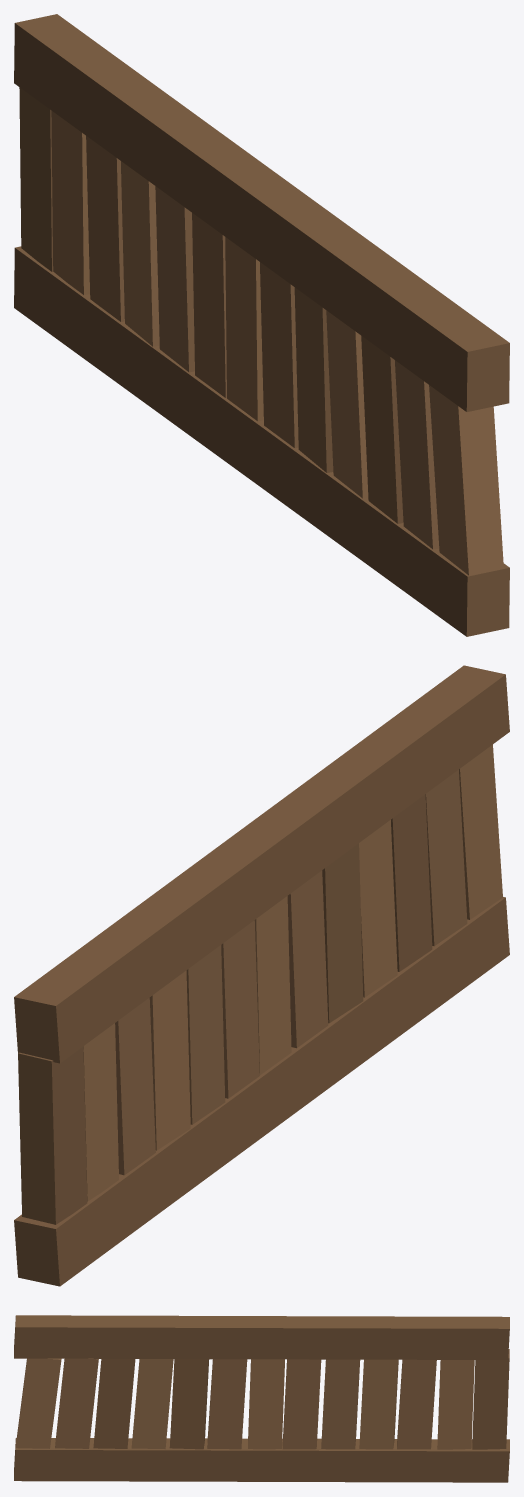
File: Town_Bench_6.fbx
3 renders of one model, top to bottom at view 1: azimuth 30°, elevation 25°; view 2: azimuth 150°, elevation 25°; view 3: azimuth 270°, elevation 25°, orthographic. The views are drawn at different scales.
Parts seen in each view (by area): view 1: Town_Bench_6; view 2: Town_Bench_6; view 3: Town_Bench_6.
Boxes of the visible parts, x1,y1,x2,y2 form: Town_Bench_6: (14, 14, 509, 636); Town_Bench_6: (14, 665, 509, 1286); Town_Bench_6: (14, 1315, 509, 1482).
Bounding box in the file's own units: 9.47 × 57.62 × 165.
Materials: 1 (1 with a texture image).
